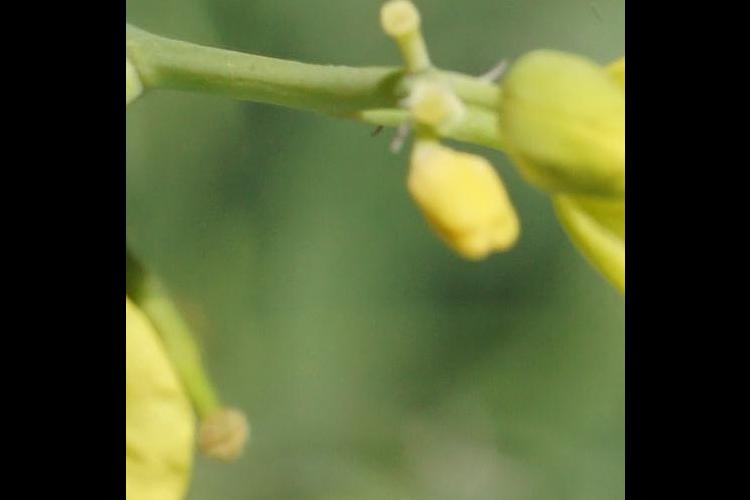bud: (398, 133, 507, 262)
pod: (127, 261, 244, 466)
yellow: (514, 44, 623, 285)
